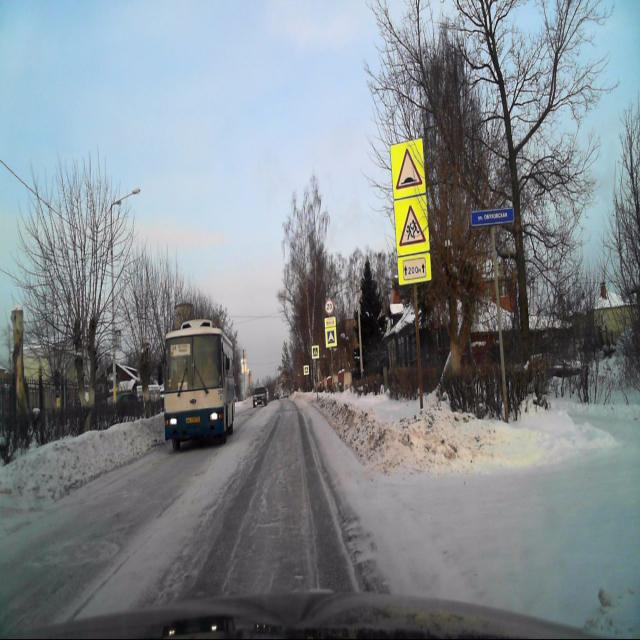object: (388, 135, 428, 201), (394, 197, 430, 256), (413, 287, 424, 412)
road sign: (396, 254, 431, 284), (325, 327, 338, 348)
